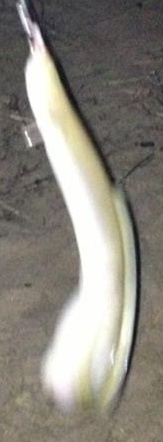Anguilla anguilla: (20, 20, 143, 422)
